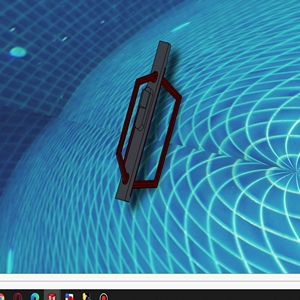submarine: (109, 38, 182, 204)
